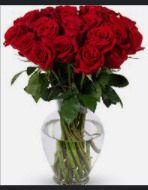RedRose: (74, 43, 106, 74), (29, 42, 56, 73), (87, 25, 118, 52), (116, 21, 141, 54), (51, 33, 76, 62), (78, 4, 107, 28), (15, 8, 41, 34), (35, 18, 58, 44), (62, 16, 87, 39), (105, 49, 129, 72), (15, 34, 36, 57), (2, 24, 20, 46), (53, 5, 75, 20)
